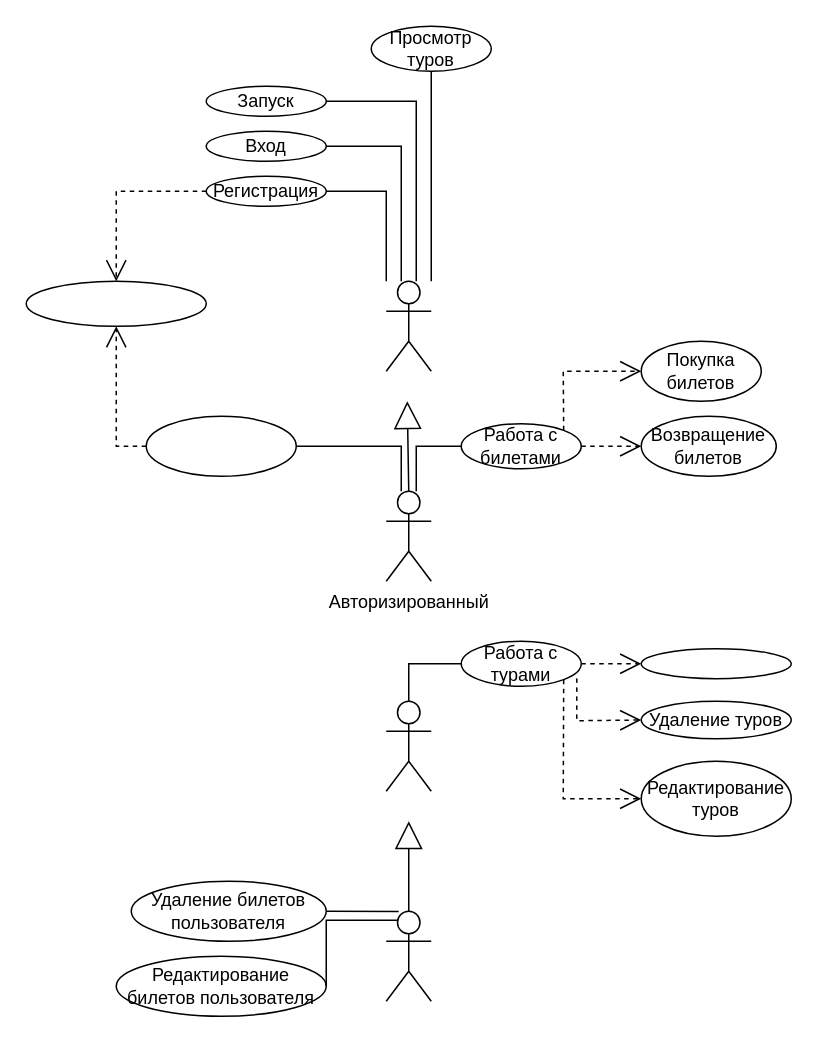
Image size: 818x1059. Some labels were removed from this diagram. The shapes that lost their labels are listed below. From the top down, each one's box as (x1, y1, x2, y2) in pixels, then its label:
(25, 280, 206, 326): Подтверждение номера
(385, 280, 431, 371): Пользователь
(145, 415, 296, 476): Редактирование профиля
(640, 647, 791, 679): Создание туров
(385, 700, 431, 791): Менеджер
(385, 910, 431, 1001): Администратор
